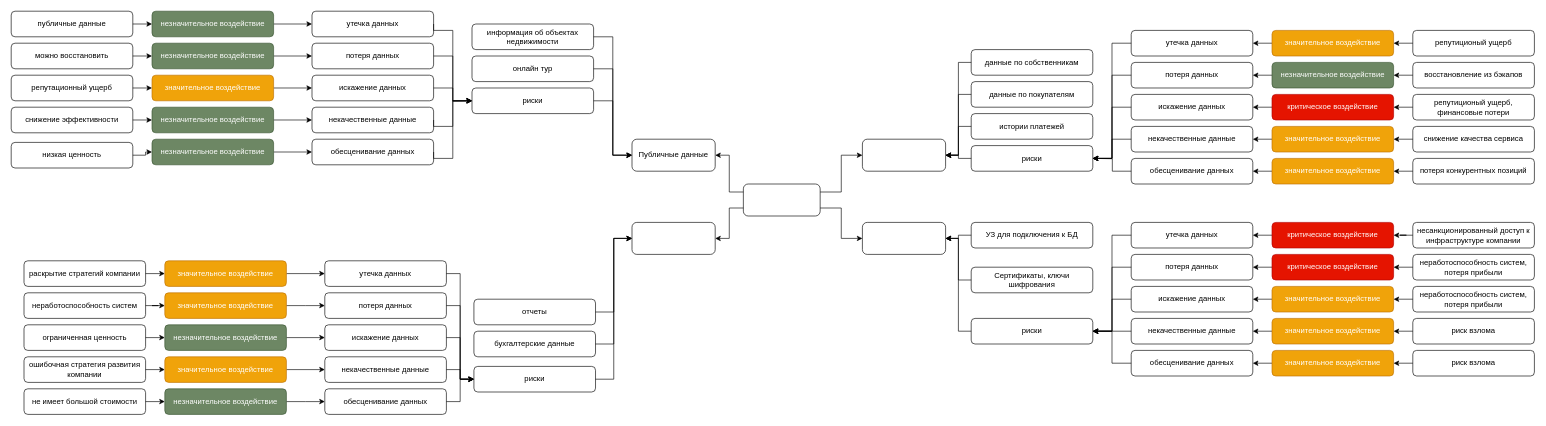
The diagram is 1546 pixels wide and 426 high, and some of its shapes have lost their labels. Each missing label, with the centre of its shape:
"Безопасность данных" belongs at [781,199].
"Внутренние данные" belongs at [673,238].
"Конфиденциальные данные" belongs at [904,155].
"Секретные данные" belongs at [904,238].
